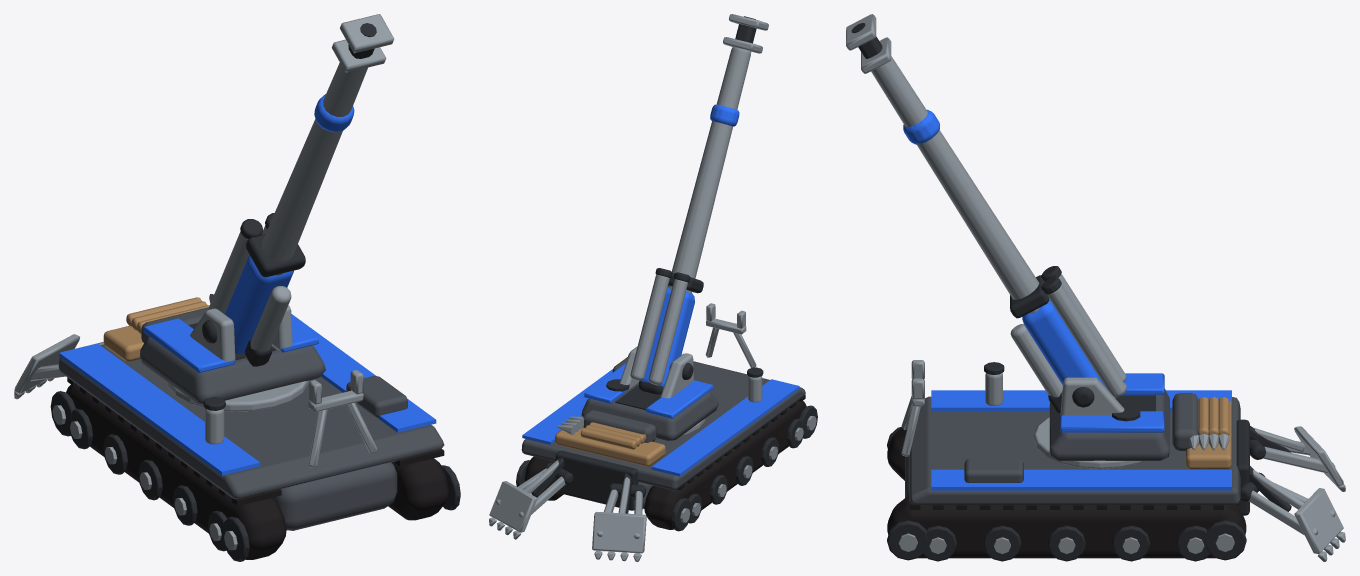
The model's file is artillery.glb.
3 renders of one model, left to right at view 1: azimuth 30°, elevation 25°; view 2: azimuth 150°, elevation 25°; view 3: azimuth 270°, elevation 25°, orthographic. The views are drawn at different scales.
Parts seen in each view (by area): view 1: artillery__M_SmokePlastic, artillery__M_Licorice, artillery__M_Team, barrel__M_SpringSteel, turret__M_SmokePlastic, artillery__M_Dark, artillery__M_SpringSteel, turret__M_SpringSteel, cradle__M_SpringSteel, cradle__M_Team, turret__M_Team, artillery__M_Kraft (+3 smaller); view 2: barrel__M_SpringSteel, artillery__M_SmokePlastic, artillery__M_Dark, artillery__M_Team, artillery__M_Licorice, turret__M_SmokePlastic, cradle__M_SpringSteel, spade_r__M_SpringSteel, artillery__M_Kraft, artillery__M_SpringSteel, spade_l__M_SpringSteel, turret__M_Team (+8 smaller); view 3: artillery__M_SmokePlastic, artillery__M_Licorice, barrel__M_SpringSteel, artillery__M_Team, artillery__M_Dark, turret__M_SmokePlastic, cradle__M_SpringSteel, artillery__M_SpringSteel, spade_l__M_SpringSteel, cradle__M_Team, turret__M_Team, turret__M_SpringSteel (+6 smaller).
Part boxes in pixels (x1,y1,x2,y2): artillery__M_SmokePlastic: (58,344,444,530); artillery__M_Licorice: (66,377,448,559); artillery__M_Team: (59,314,436,475); barrel__M_SpringSteel: (261,14,394,275); turret__M_SmokePlastic: (139,307,325,405); artillery__M_Dark: (50,391,460,561); artillery__M_SpringSteel: (52,294,376,550); turret__M_SpringSteel: (167,305,308,411); cradle__M_SpringSteel: (208,225,291,360); cradle__M_Team: (224,255,293,353); turret__M_Team: (143,318,318,372); artillery__M_Kraft: (103,297,209,361); barrel__M_SpringSteel: (668,14,768,293); artillery__M_SmokePlastic: (521,357,805,508); artillery__M_Dark: (516,367,817,531); artillery__M_Team: (522,369,799,476); artillery__M_Licorice: (524,394,806,529); turret__M_SmokePlastic: (581,384,718,442); cradle__M_SpringSteel: (630,274,687,385); spade_r__M_SpringSteel: (592,477,646,561); artillery__M_Kraft: (555,422,665,466); artillery__M_SpringSteel: (557,303,816,522); spade_l__M_SpringSteel: (489,460,565,539); turret__M_Team: (584,363,713,418); artillery__M_SmokePlastic: (905,396,1240,505); artillery__M_Licorice: (887,427,1246,558); barrel__M_SpringSteel: (846,14,1049,313); artillery__M_Team: (931,390,1231,490); artillery__M_Dark: (887,362,1249,561); turret__M_SmokePlastic: (1049,389,1198,460); cradle__M_SpringSteel: (1010,274,1126,397); artillery__M_SpringSteel: (898,360,1234,553); spade_l__M_SpringSteel: (1248,470,1345,561); cradle__M_Team: (1022,300,1105,387); turret__M_Team: (1060,373,1164,432); turret__M_SpringSteel: (1034,377,1142,468).
Size of the model in its own units: 0.726 by 1.65 by 1.51.
